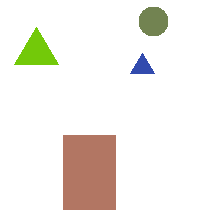circle: (139, 7, 167, 35)
rectangle: (63, 135, 115, 209)
triangle: (14, 27, 58, 64), (130, 53, 154, 73)
